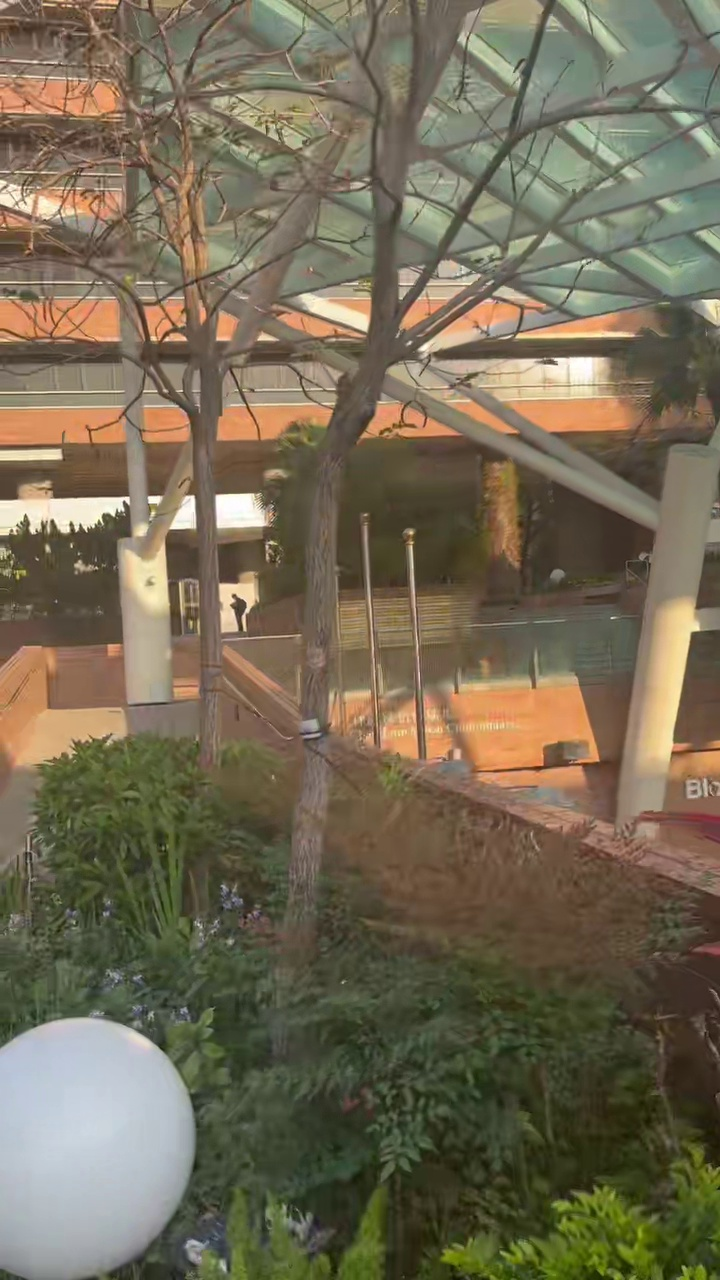Tabebuia chrysantha: (284, 0, 613, 958)
